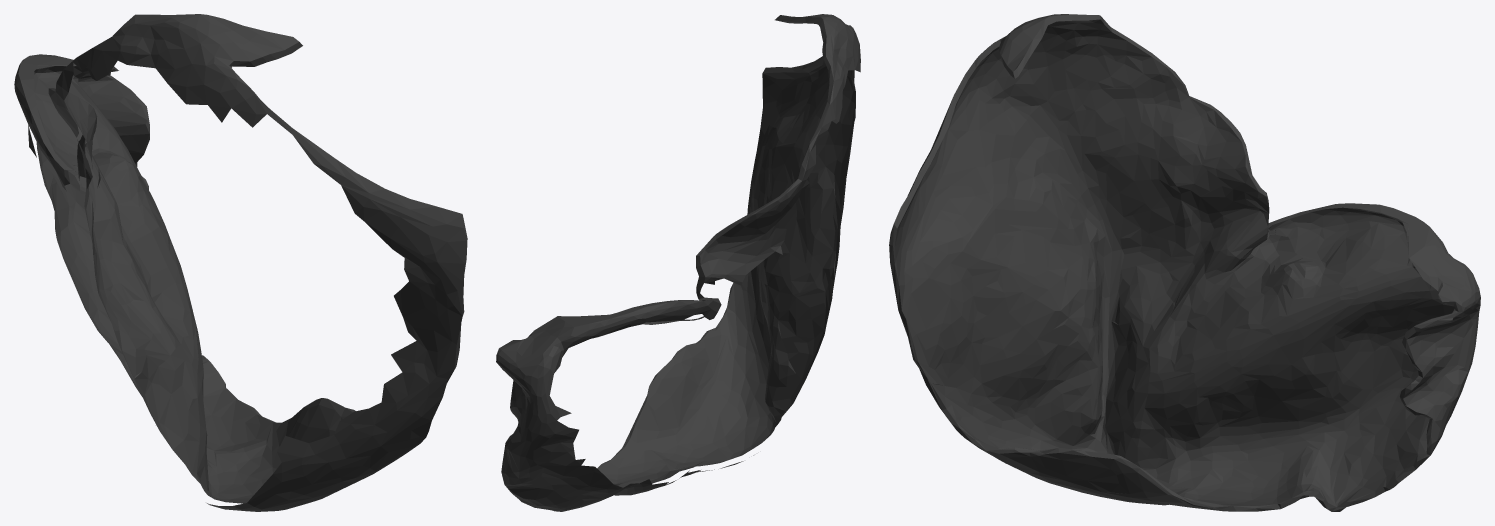
File: ventral_sac.glb
The picture shows the model from 3 angles, left to right: view 1: azimuth 30°, elevation 25°; view 2: azimuth 150°, elevation 25°; view 3: azimuth 270°, elevation 25°; orthographic projection. The views are drawn at different scales.
Parts seen in each view (by area): view 1: ventral_sac; view 2: ventral_sac; view 3: ventral_sac.
Boxes of the visible parts, x1,y1,x2,y2 form: ventral_sac: (14, 14, 467, 511); ventral_sac: (496, 14, 860, 511); ventral_sac: (889, 14, 1480, 511).
Bounding box in the file's own units: 0.7487 × 1.63 × 1.97.
1 material, 1 textured.
